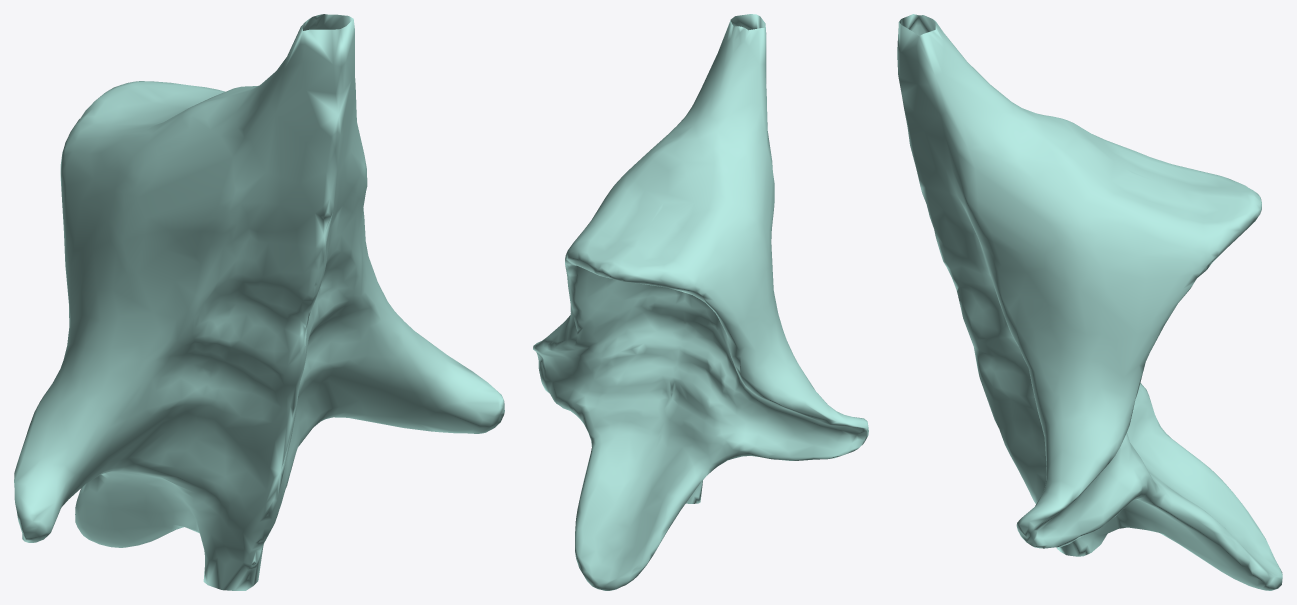
Rendered from 05_Fourth_ventricle.glb.
3 views of the same model, side by side, from view 1: azimuth 30°, elevation 25°; view 2: azimuth 150°, elevation 25°; view 3: azimuth 270°, elevation 25° (orthographic). The views are drawn at different scales.
Visible parts, largest first — view 1: Fourth ventricle; view 2: Fourth ventricle; view 3: Fourth ventricle.
Part boxes in pixels (box(x1,y1,x2,y2)): Fourth ventricle: box(14, 14, 504, 590); Fourth ventricle: box(533, 14, 868, 590); Fourth ventricle: box(897, 14, 1282, 590).
Size of the model in its own units: 0.0274 by 0.0366 by 0.0227.
